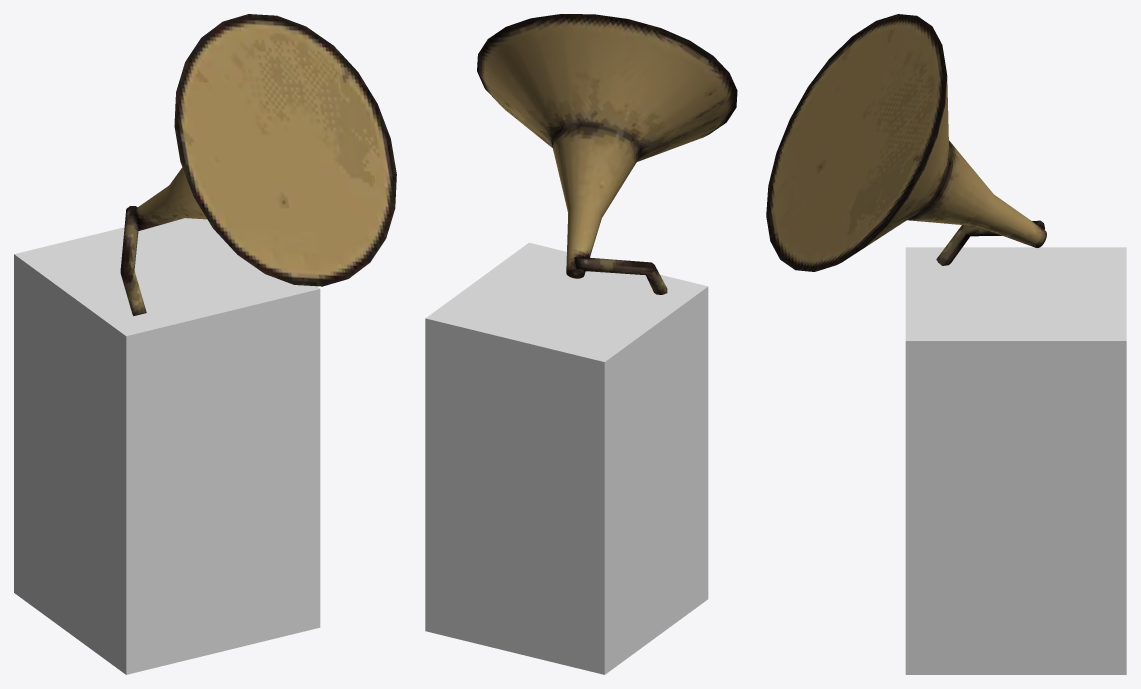
File: Gramophone.glb
The picture shows the model from 3 angles, left to right: view 1: azimuth 30°, elevation 25°; view 2: azimuth 150°, elevation 25°; view 3: azimuth 270°, elevation 25°; orthographic projection. The views are drawn at different scales.
Parts seen in each view (by area): view 1: Col_1__Plastic__000000, Tex__SmoothPlastic__FFFFFF; view 2: Col_1__Plastic__000000, Tex__SmoothPlastic__FFFFFF; view 3: Col_1__Plastic__000000, Tex__SmoothPlastic__FFFFFF.
Boxes of the visible parts, left/top/right/bottom form: Col_1__Plastic__000000: left=14, top=218, right=320, bottom=674; Tex__SmoothPlastic__FFFFFF: left=120, top=14, right=396, bottom=316; Col_1__Plastic__000000: left=425, top=242, right=708, bottom=674; Tex__SmoothPlastic__FFFFFF: left=477, top=14, right=737, bottom=294; Col_1__Plastic__000000: left=905, top=247, right=1126, bottom=674; Tex__SmoothPlastic__FFFFFF: left=766, top=14, right=1046, bottom=271.
Bounding box in the file's own units: 0.6576 × 1.53 × 0.8217.
Materials: 1 (1 with a texture image).
